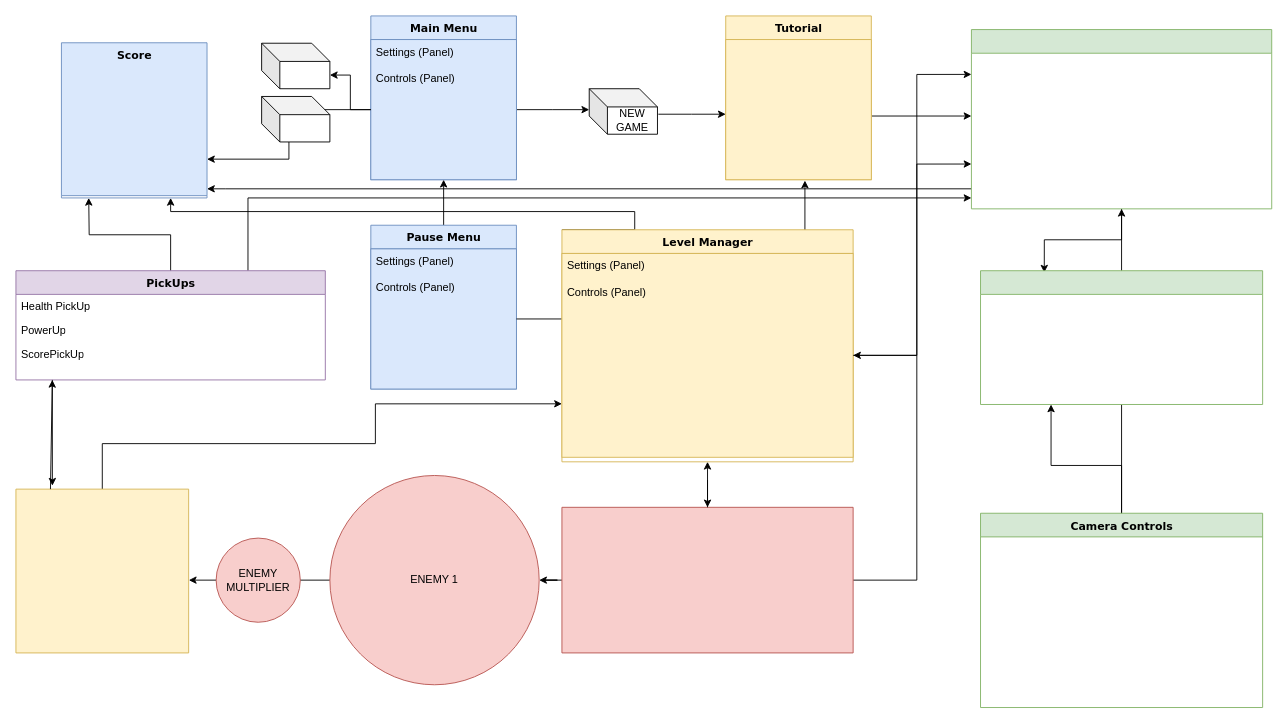
Image size: 1288x723. Some labels were removed from this diagram. Each missing label, with the centre of its shape:
"Enemy Manager" belongs at (x=707, y=579).
"Load New Level" belongs at (x=102, y=570).
"Player Controller" belongs at (x=1121, y=337).
"Player Manager" belongs at (x=1121, y=119).
"QUIT" belongs at (x=295, y=65).
"SCORES" belongs at (x=295, y=119).
"UI to explain game mechanics" belongs at (x=798, y=109).
